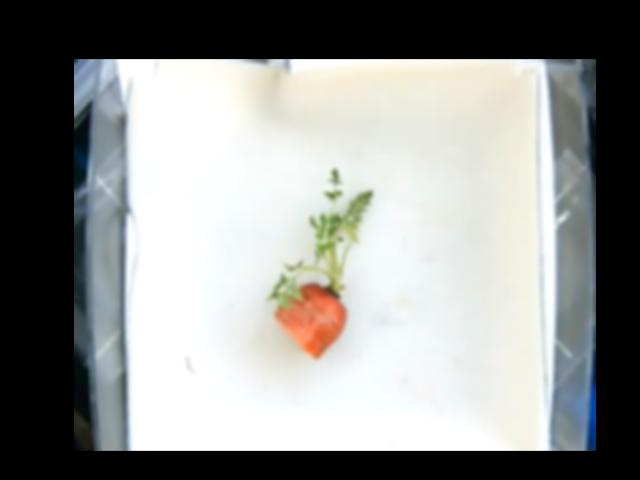Carrot: (264, 166, 374, 358)
